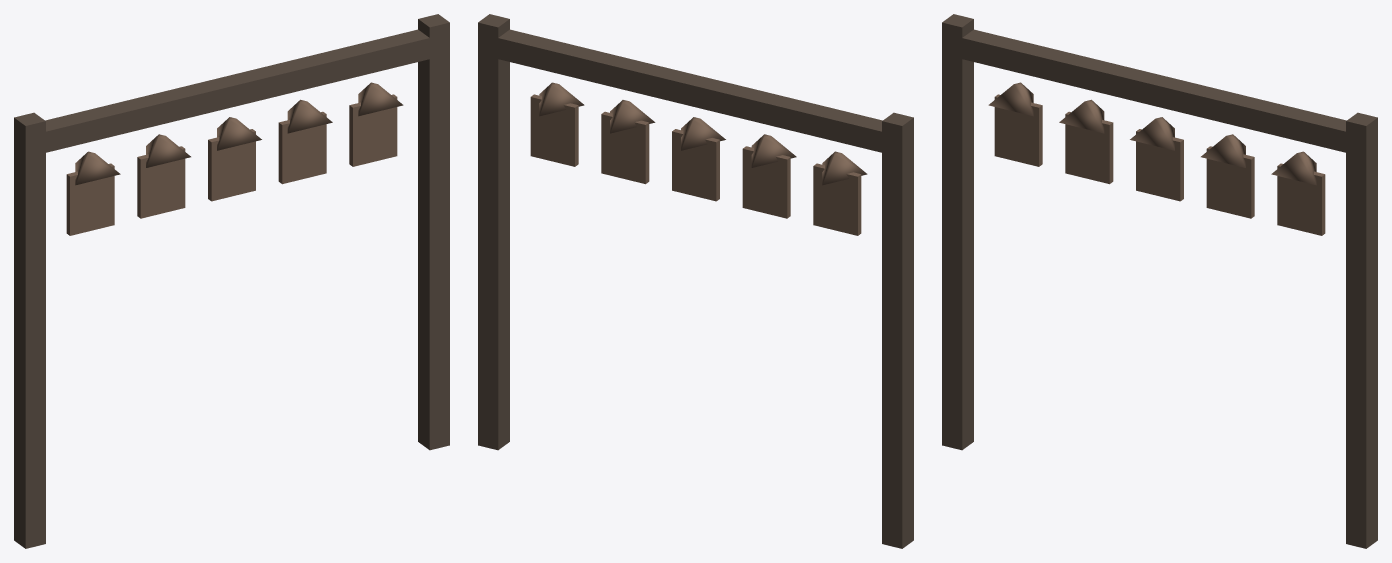
The model's file is prop_ema_kake.glb.
3 views of the same model, side by side, from view 1: azimuth 30°, elevation 25°; view 2: azimuth 150°, elevation 25°; view 3: azimuth 330°, elevation 25° (orthographic).
Parts seen in each view (by area): view 1: ema_kake; view 2: ema_kake; view 3: ema_kake.
Boxes of the visible parts, box(x1,y1,x2,y2) form: ema_kake: box(14, 14, 449, 548); ema_kake: box(478, 14, 913, 548); ema_kake: box(942, 14, 1377, 548).
Size of the model in its own units: 2.1 by 2 by 0.195.
